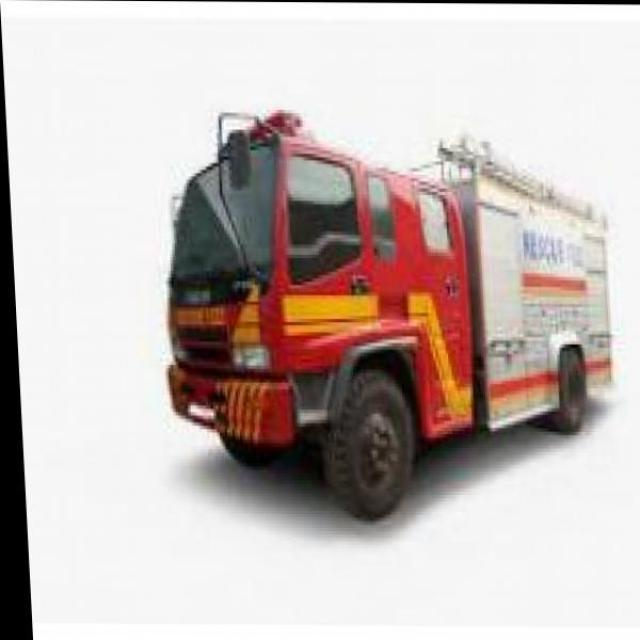emergency: (164, 107, 616, 521)
